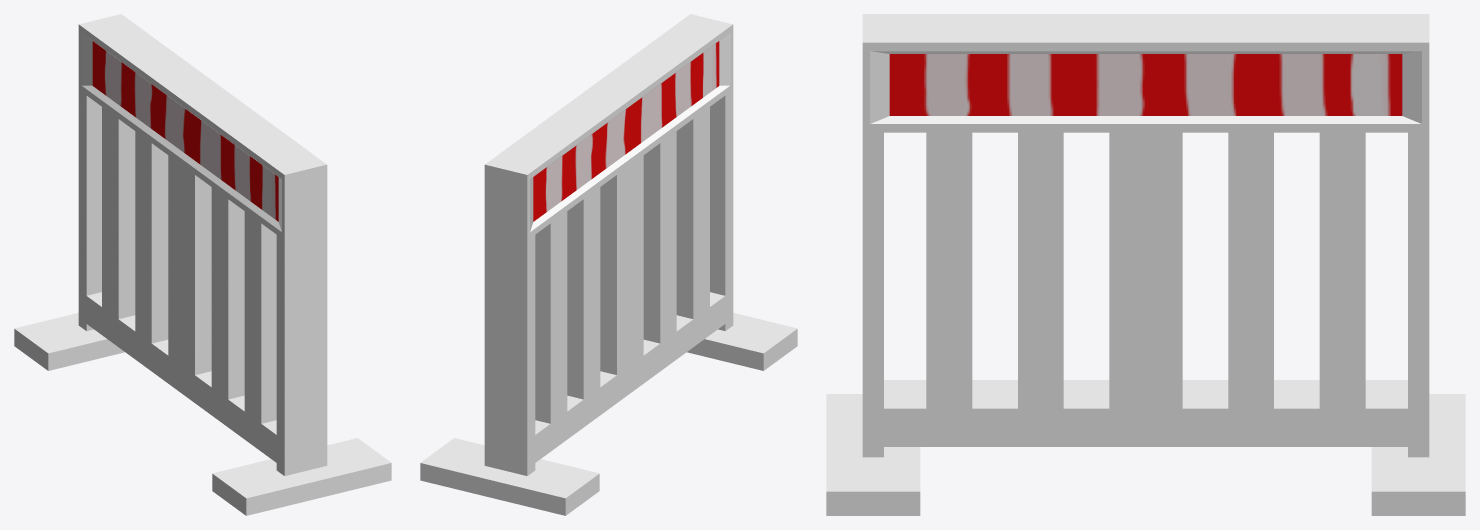
Rendered from Barrier.fbx.
3 renders of one model, left to right at view 1: azimuth 30°, elevation 25°; view 2: azimuth 150°, elevation 25°; view 3: azimuth 270°, elevation 25°, orthographic. The views are drawn at different scales.
Visible parts, largest first — view 1: Cube; view 2: Cube; view 3: Cube.
Part boxes in pixels (x1,y1,x2,y2): Cube: (14,14,391,515); Cube: (420,14,797,515); Cube: (826,14,1465,515).
Size of the model in its own units: 211 by 442 by 584.
